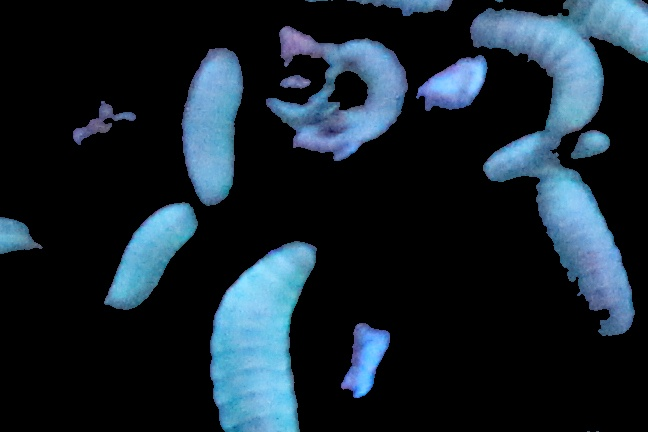larvae: (205, 240, 317, 432), (530, 173, 638, 337), (470, 8, 598, 132), (101, 202, 195, 319), (183, 48, 240, 207), (334, 30, 406, 139), (483, 130, 611, 178), (562, 1, 648, 68)
